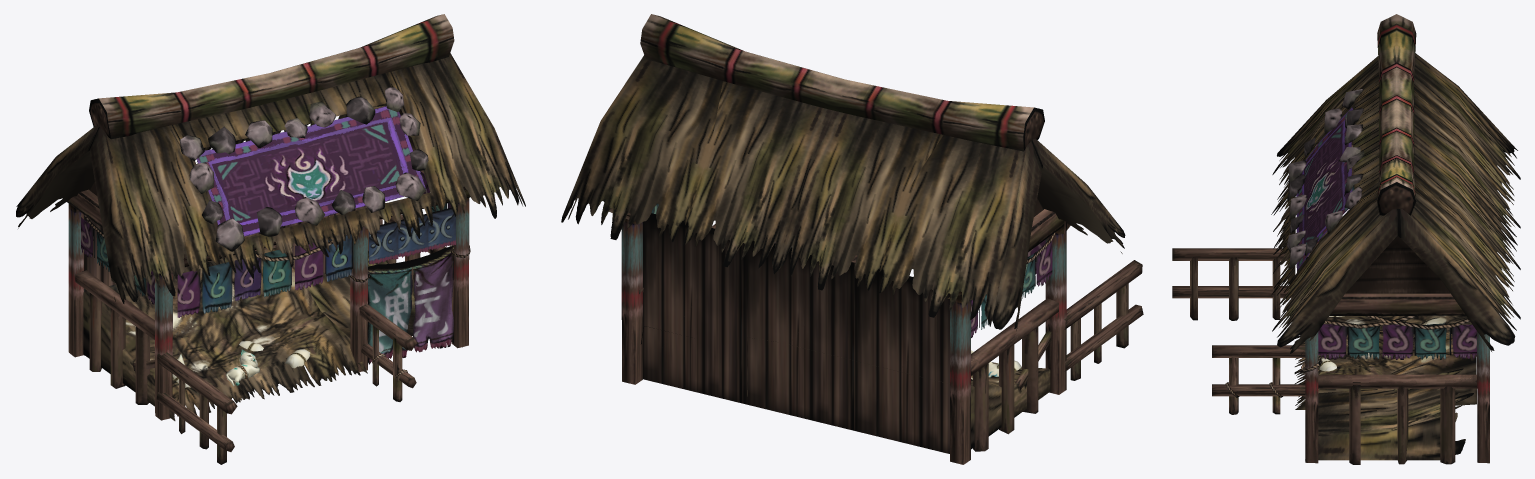
Rendered from STR_ShopSpirit.FBX.
The picture shows the model from 3 angles, left to right: view 1: azimuth 30°, elevation 25°; view 2: azimuth 150°, elevation 25°; view 3: azimuth 270°, elevation 25°; orthographic projection. The views are drawn at different scales.
Parts seen in each view (by area): view 1: STR_ShopSpirit; view 2: STR_ShopSpirit; view 3: STR_ShopSpirit.
Part boxes in pixels (x1,y1,x2,y2): STR_ShopSpirit: (16, 14, 525, 464); STR_ShopSpirit: (561, 14, 1143, 464); STR_ShopSpirit: (1172, 14, 1520, 464).
Size of the model in its own units: 672 by 467 by 502.
